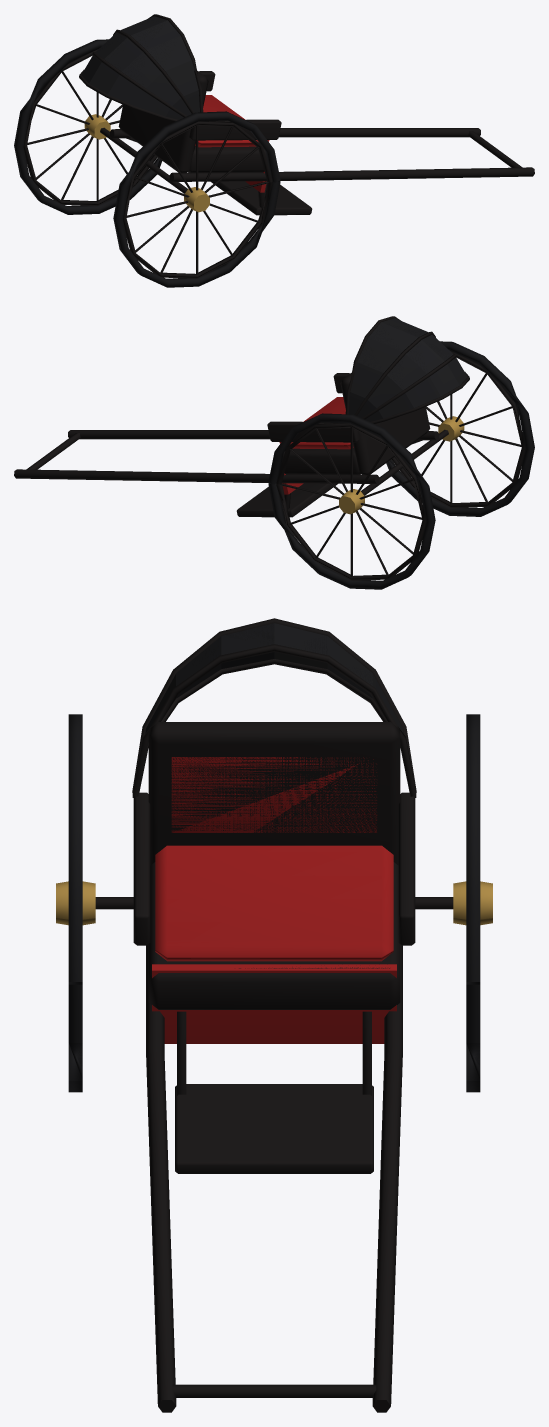
The model's file is RickshawKM.fbx.
The picture shows the model from 3 angles, top to bottom: view 1: azimuth 30°, elevation 25°; view 2: azimuth 150°, elevation 25°; view 3: azimuth 270°, elevation 25°; orthographic projection. The views are drawn at different scales.
Visible parts, largest first — view 1: RickshawKM; view 2: RickshawKM; view 3: RickshawKM.
Boxes of the visible parts, x1,y1,x2,y2 form: RickshawKM: (14, 14, 534, 287); RickshawKM: (14, 316, 534, 589); RickshawKM: (56, 618, 492, 1412).
Size of the model in its own units: 3.08 by 1.5 by 1.32.
